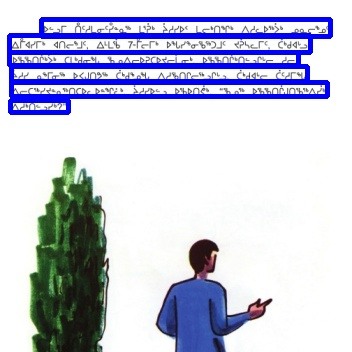inuktitut: (9, 35, 310, 52), (41, 19, 330, 36), (11, 66, 307, 81), (11, 82, 327, 96), (9, 52, 298, 65), (10, 100, 68, 112)
